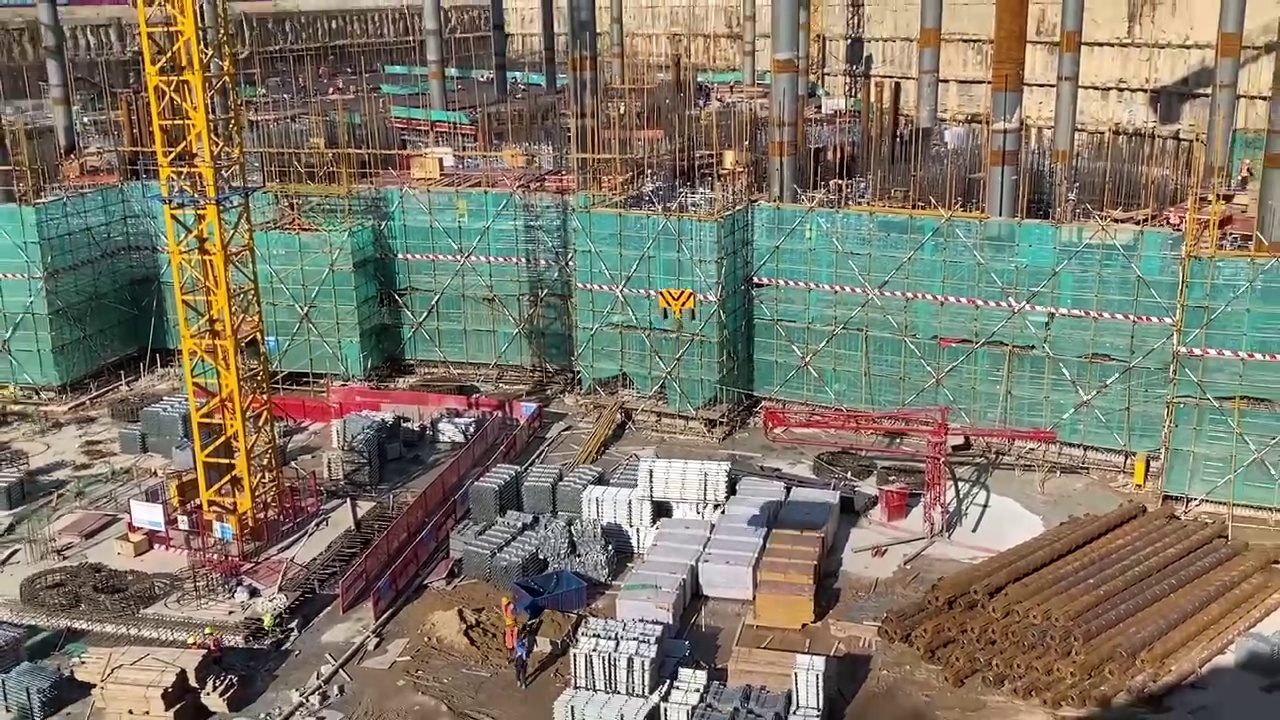board: (757, 530, 821, 625)
fence: (319, 379, 538, 430)
hook: (657, 285, 697, 322)
person: (515, 642, 531, 688), (495, 593, 516, 626), (502, 618, 518, 658)
rebar: (886, 495, 1280, 713)
scaffold: (461, 519, 613, 584), (573, 617, 657, 691), (639, 456, 726, 501), (551, 683, 659, 719), (586, 487, 655, 536), (470, 463, 519, 518), (143, 400, 189, 458), (792, 648, 826, 719), (520, 462, 557, 519), (557, 458, 593, 513)
wood: (91, 650, 232, 714)
